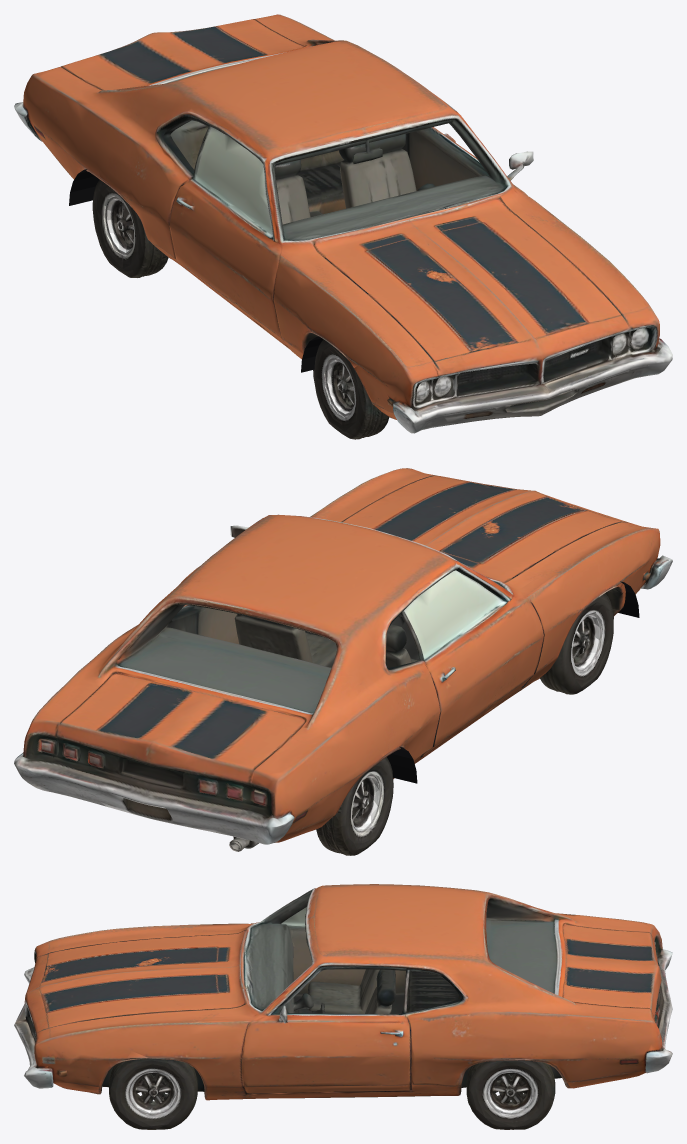
The model's file is car_classic.glb.
3 views of the same model, one above another, from view 1: azimuth 30°, elevation 25°; view 2: azimuth 150°, elevation 25°; view 3: azimuth 270°, elevation 25° (orthographic). The views are drawn at different scales.
Visible parts, largest first — view 1: body, wheel_RR, wheel_FR, liner_RR; view 2: body, wheel_RR, wheel_FR, liner_RR; view 3: body, wheel_RL, wheel_FL.
Part boxes in pixels (x1,y1,x2,y2): body: (14,14,672,433); wheel_RR: (92,173,168,277); wheel_FR: (317,341,389,439); liner_RR: (69,169,99,205); body: (14,468,672,855); wheel_RR: (316,751,393,855); wheel_FR: (569,586,623,689); liner_RR: (387,746,417,783); body: (14,884,672,1129); wheel_RL: (466,1058,555,1129); wheel_FL: (98,1058,184,1129).
Bounding box in the file's own units: 2.06 × 1.39 × 4.9.
Materials: 2 (1 with a texture image).
